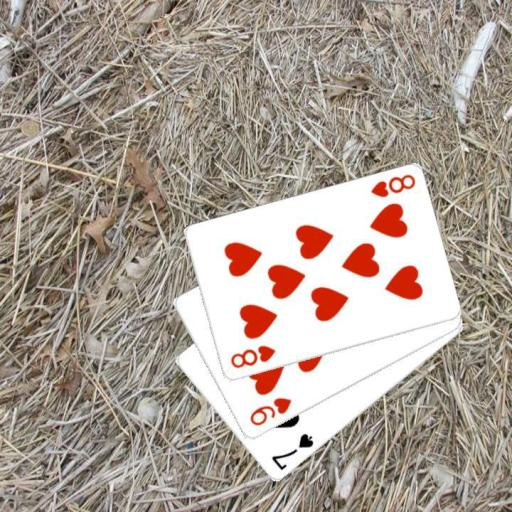7S: (268, 430, 315, 473)
8H: (227, 342, 277, 371), (368, 171, 417, 200)
9H: (246, 395, 293, 428)
